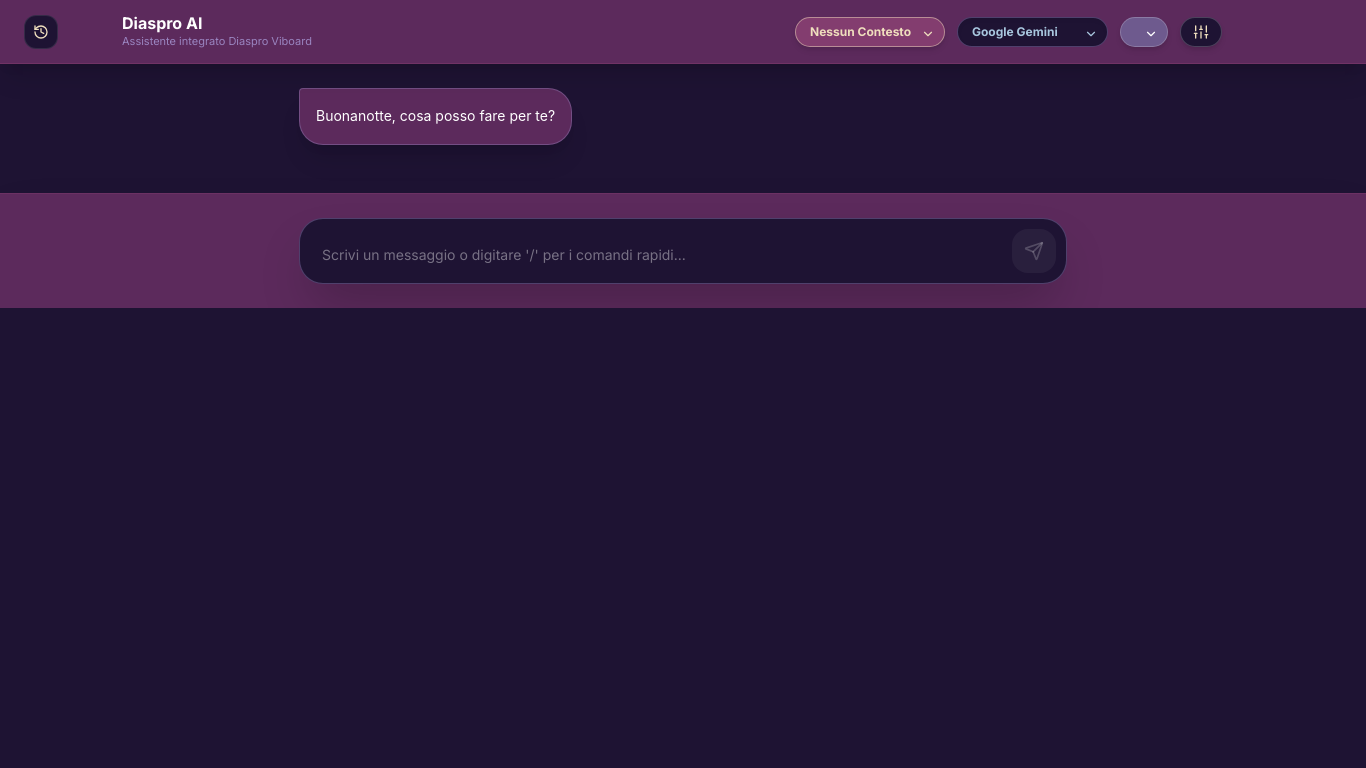
Test: ChatPanel Real Component Integration Tests (useChatThreads & usePendingActions) › 1. Sync messages -> hasPendingAction: detects pending action in response and blocks input
Find chat input textarea
Step 1. Type "Esegui git status" into the text box with placeholder "Scrivi un messaggio o digitare '/' per i comandi rapidi..." → {"x": 657, "y": 255}, box top-left (310, 237), bottom-right (1004, 273)
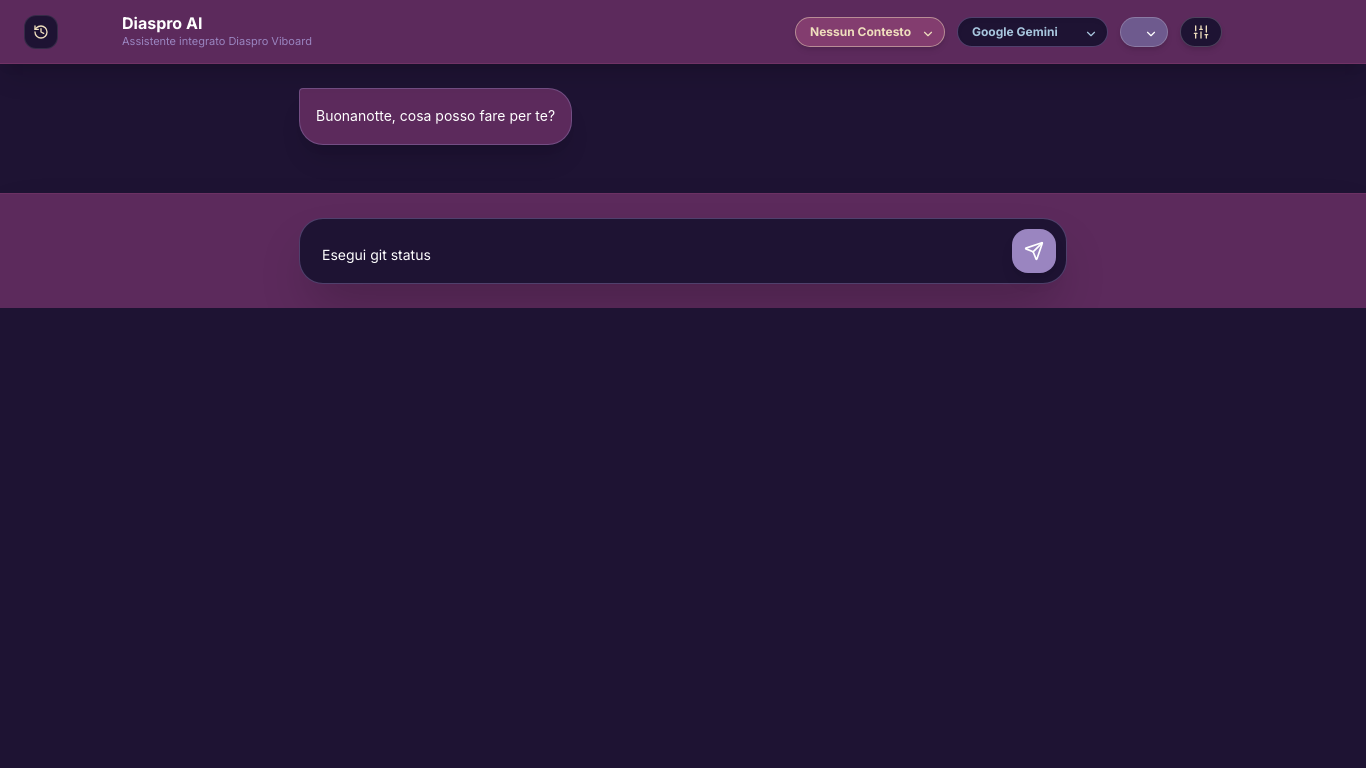
Send message
Step 2. Click the button titled "Invia messaggio" → {"x": 1034, "y": 251}, box top-left (1012, 229), bottom-right (1056, 273)
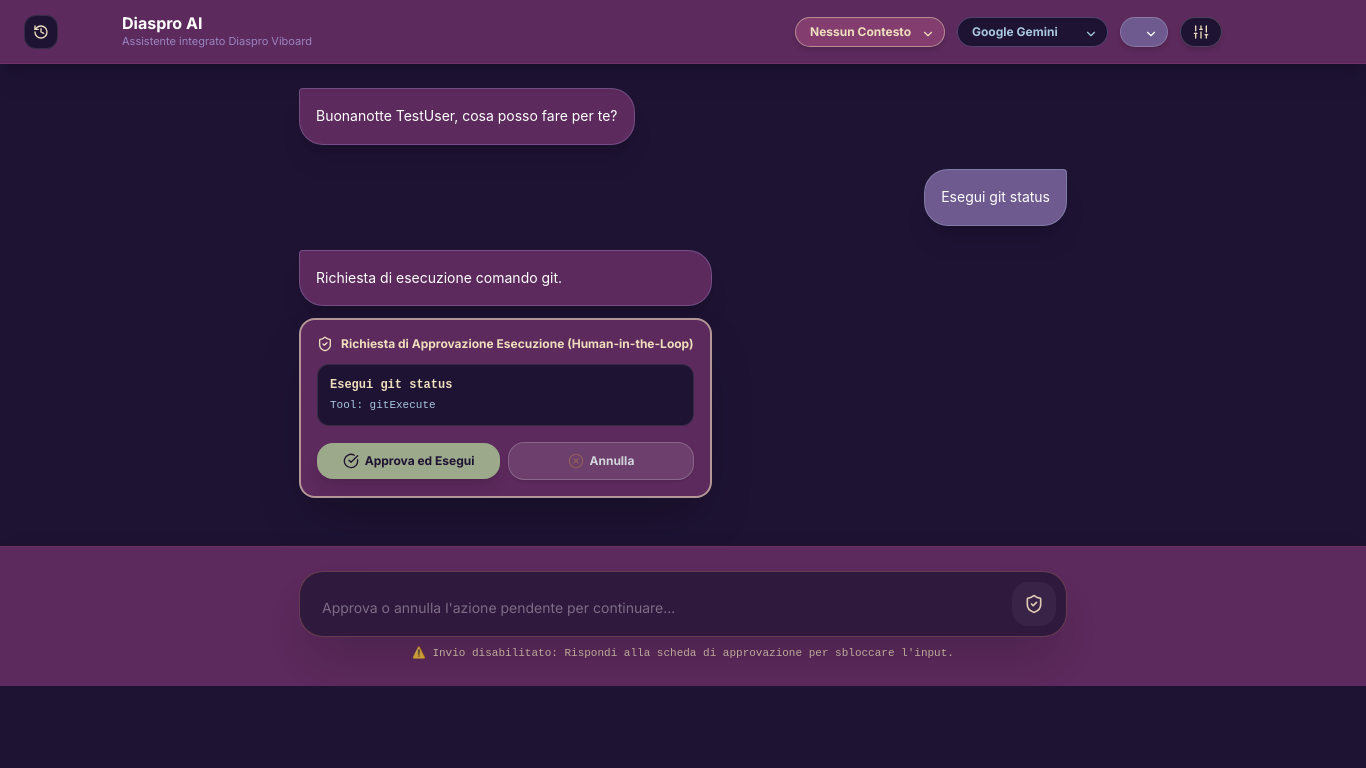
Expected: the 1st text "Esegui git status" is shown, top-left (941, 186), bottom-right (1050, 209)
Expected: the button "Approva ed Esegui" is shown, top-left (317, 443), bottom-right (500, 479)
Expected: the button "Annulla" is shown, top-left (508, 442), bottom-right (694, 480)
